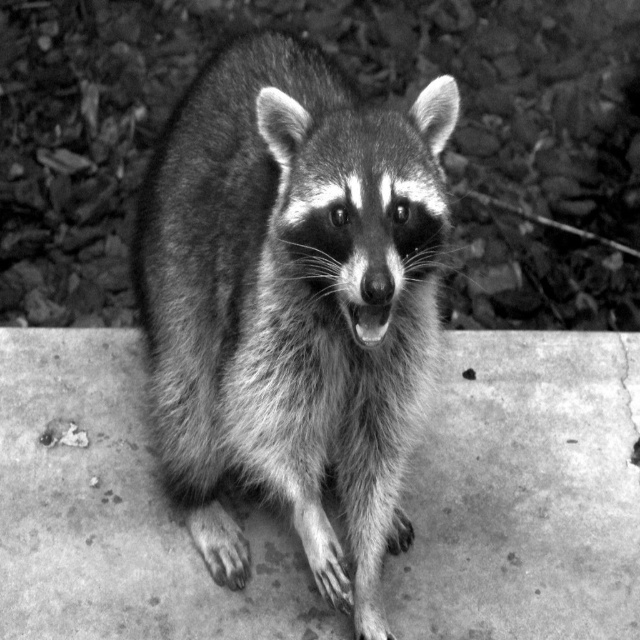Raccoon: (127, 29, 487, 639)
